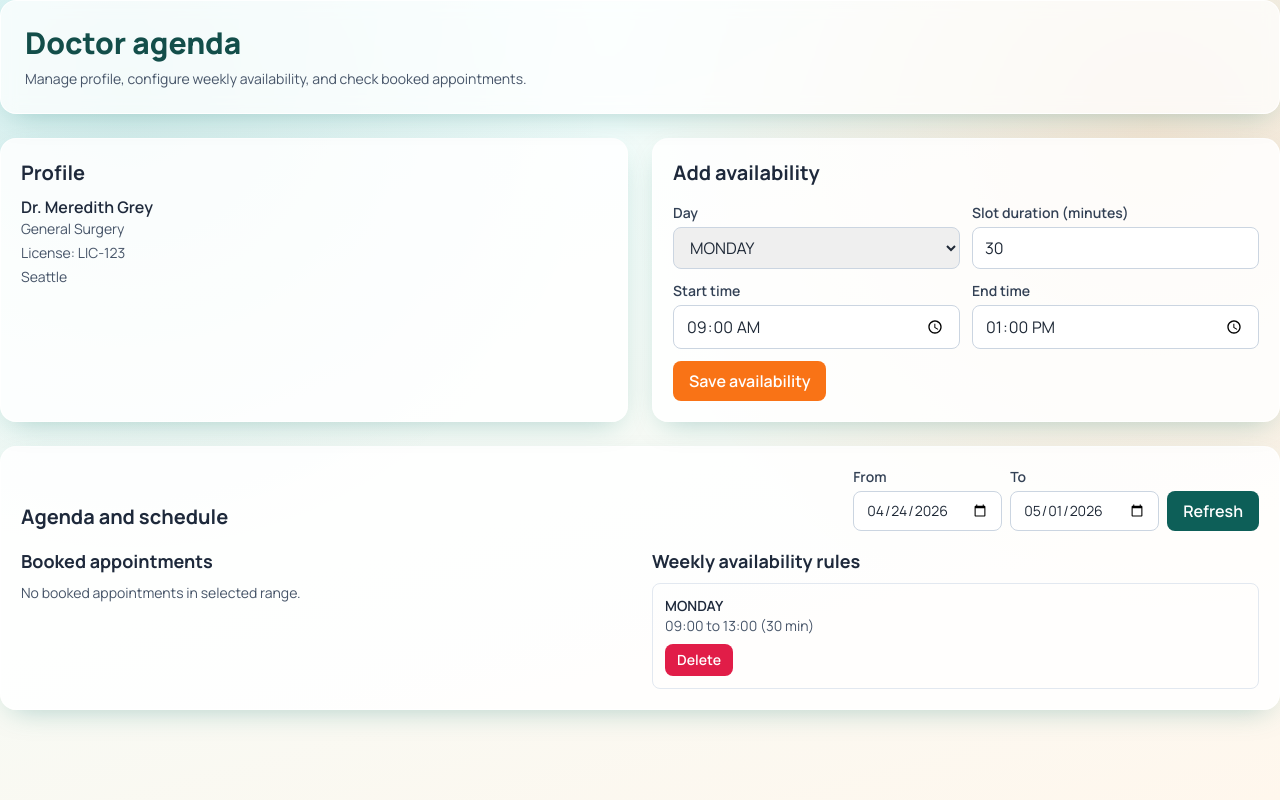
Test: DoctorAgendaPage › does not delete availability when confirmation is cancelled
Click the button "Delete": click(699, 660) x1=665 y1=644 x2=733 y2=676
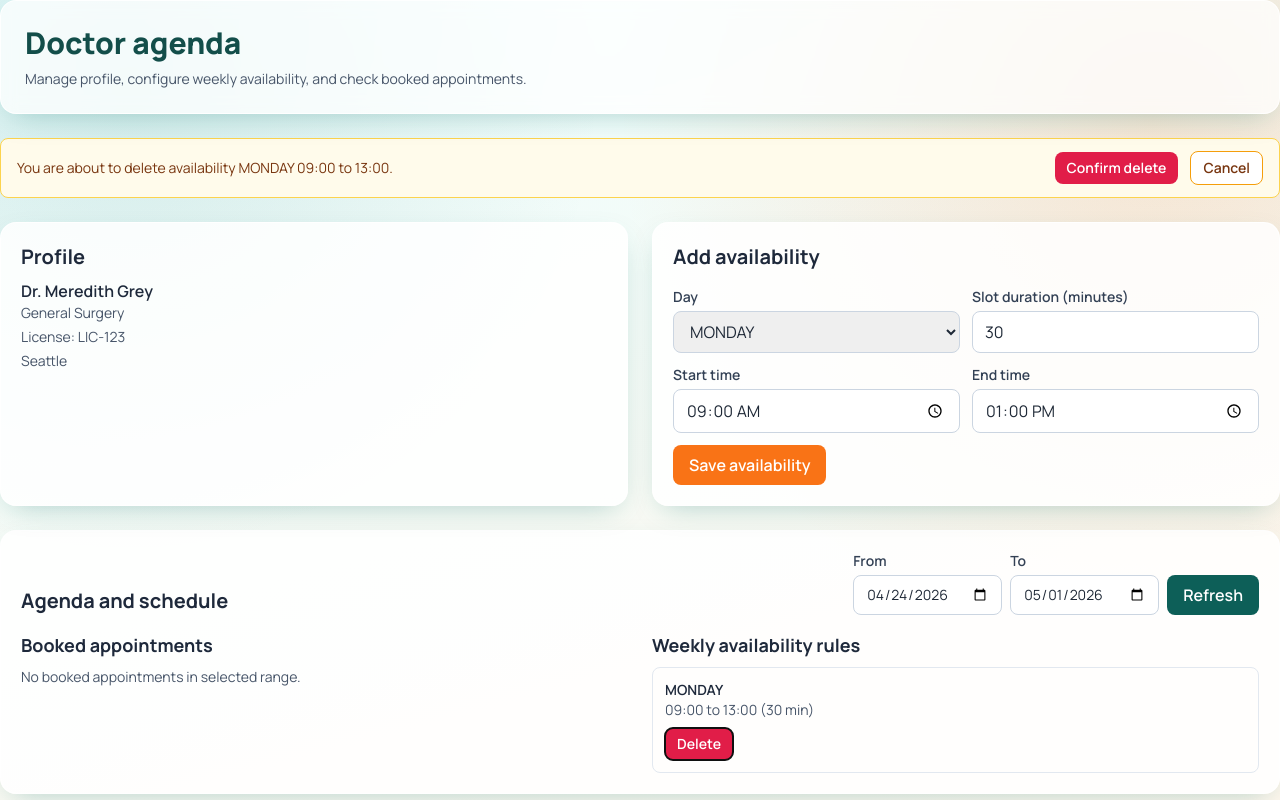
Result: the text "You are about to delete availability MONDAY 09:00 to 13:00." is shown at x1=17 y1=158 x2=393 y2=178
Click the button "Cancel": click(1227, 168) x1=1190 y1=151 x2=1263 y2=185
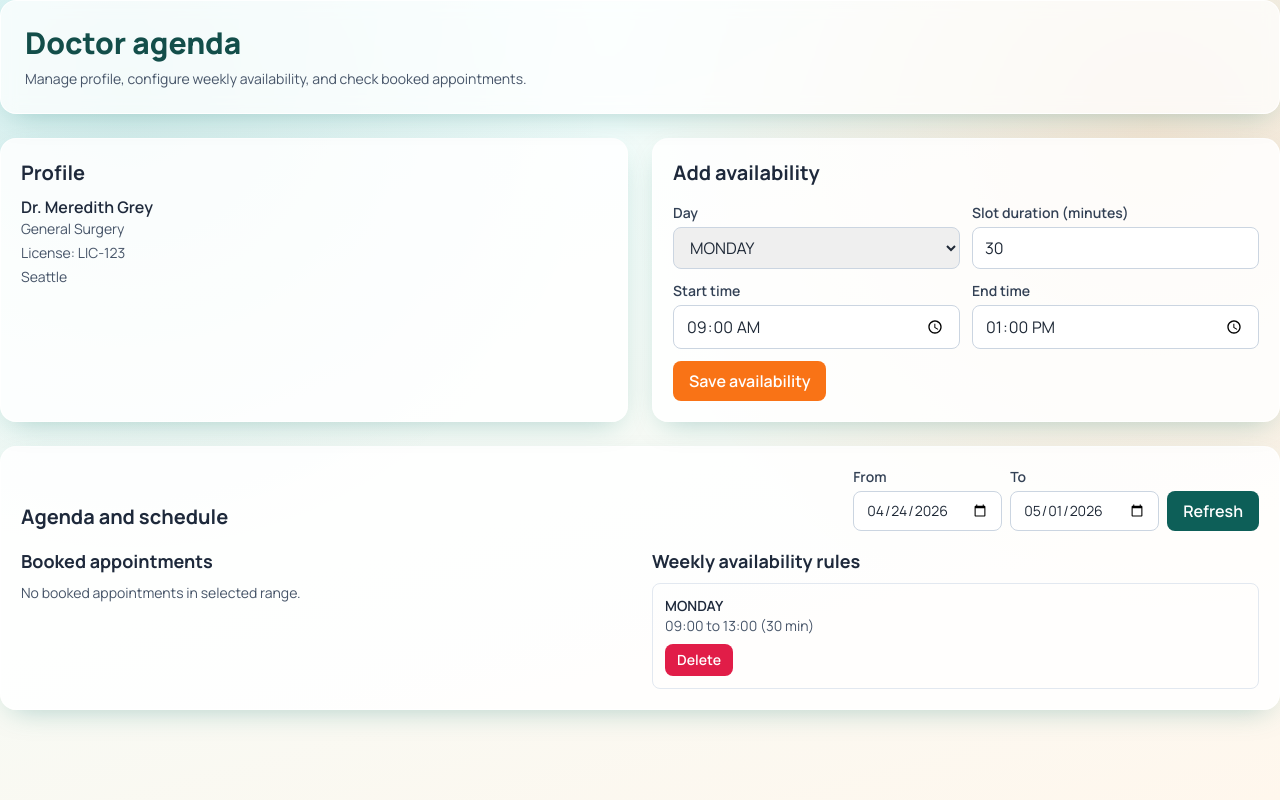
Result: the button "Confirm delete" is gone
